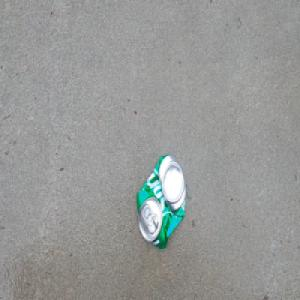SodaCan: (135, 151, 187, 253)
